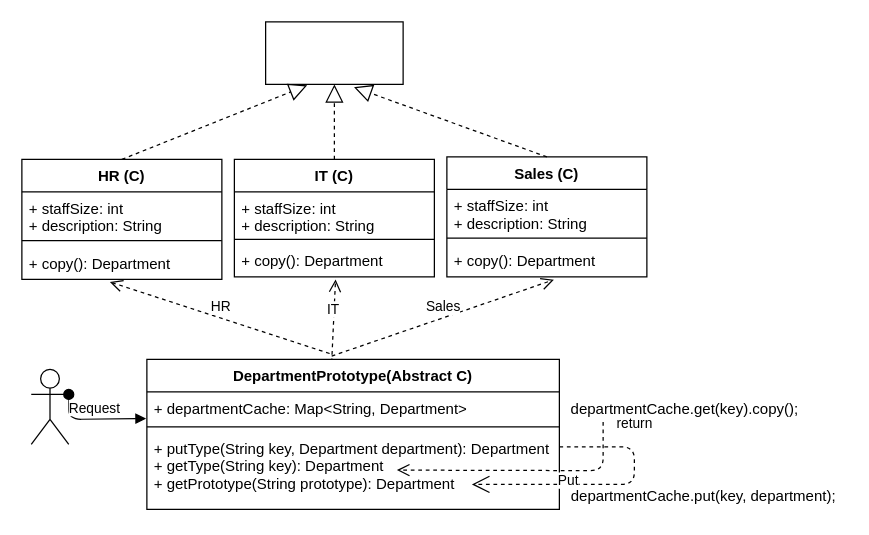
This 869x535 diagram has some shape labels left out. The shapes that lost their labels are listed below. From the top down, each one's centre as x and y in pixels, then its label:
the point at 333,52: «interface» Department
the point at 49,406: Client
